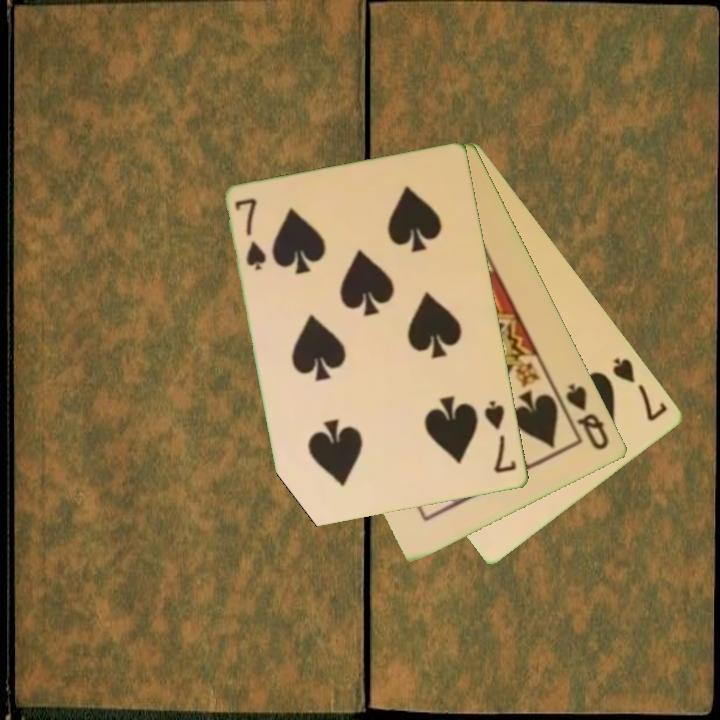7s: (609, 354, 671, 425), (481, 397, 520, 477), (232, 195, 270, 274)
Qs: (562, 379, 613, 453)
